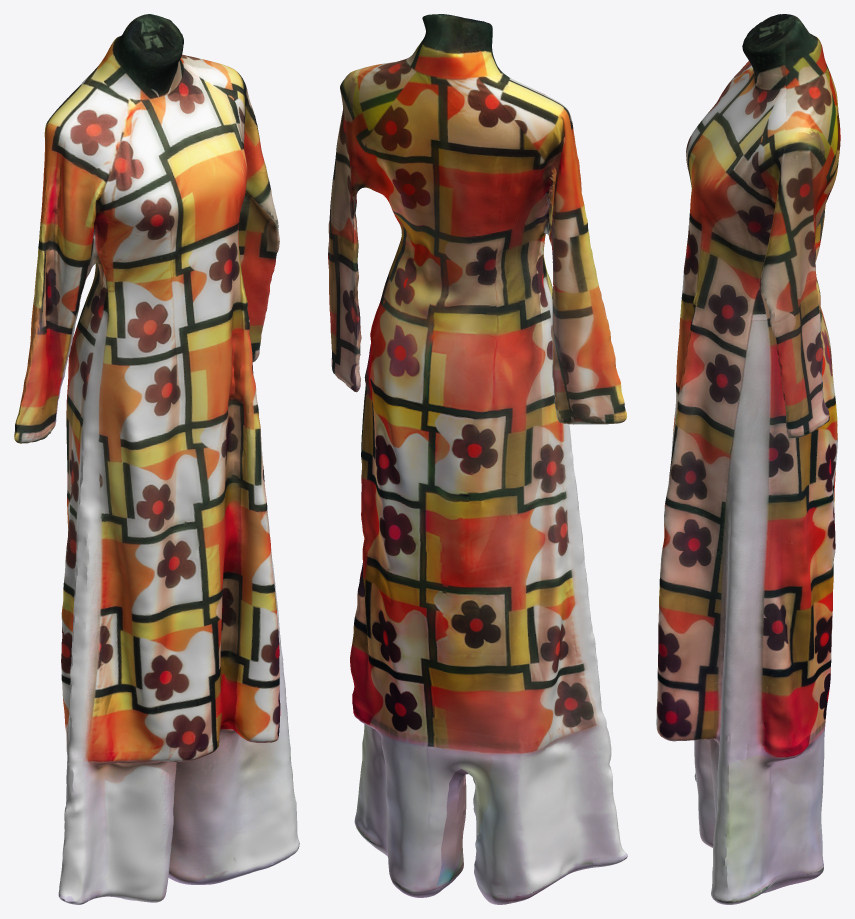
File: Ao Dai Raglanv2.gltf
The picture shows the model from 3 angles, left to right: view 1: azimuth 30°, elevation 25°; view 2: azimuth 150°, elevation 25°; view 3: azimuth 270°, elevation 25°; orthographic projection. The views are drawn at different scales.
Visible parts, largest first — view 1: UVed; view 2: UVed; view 3: UVed.
Boxes of the visible parts, bbox=[...] form: UVed: bbox=[14, 14, 299, 904]; UVed: bbox=[328, 14, 627, 904]; UVed: bbox=[656, 14, 840, 904].
Bounding box in the file's own units: 0.5803 × 1.73 × 0.338.
1 material, 1 textured.
